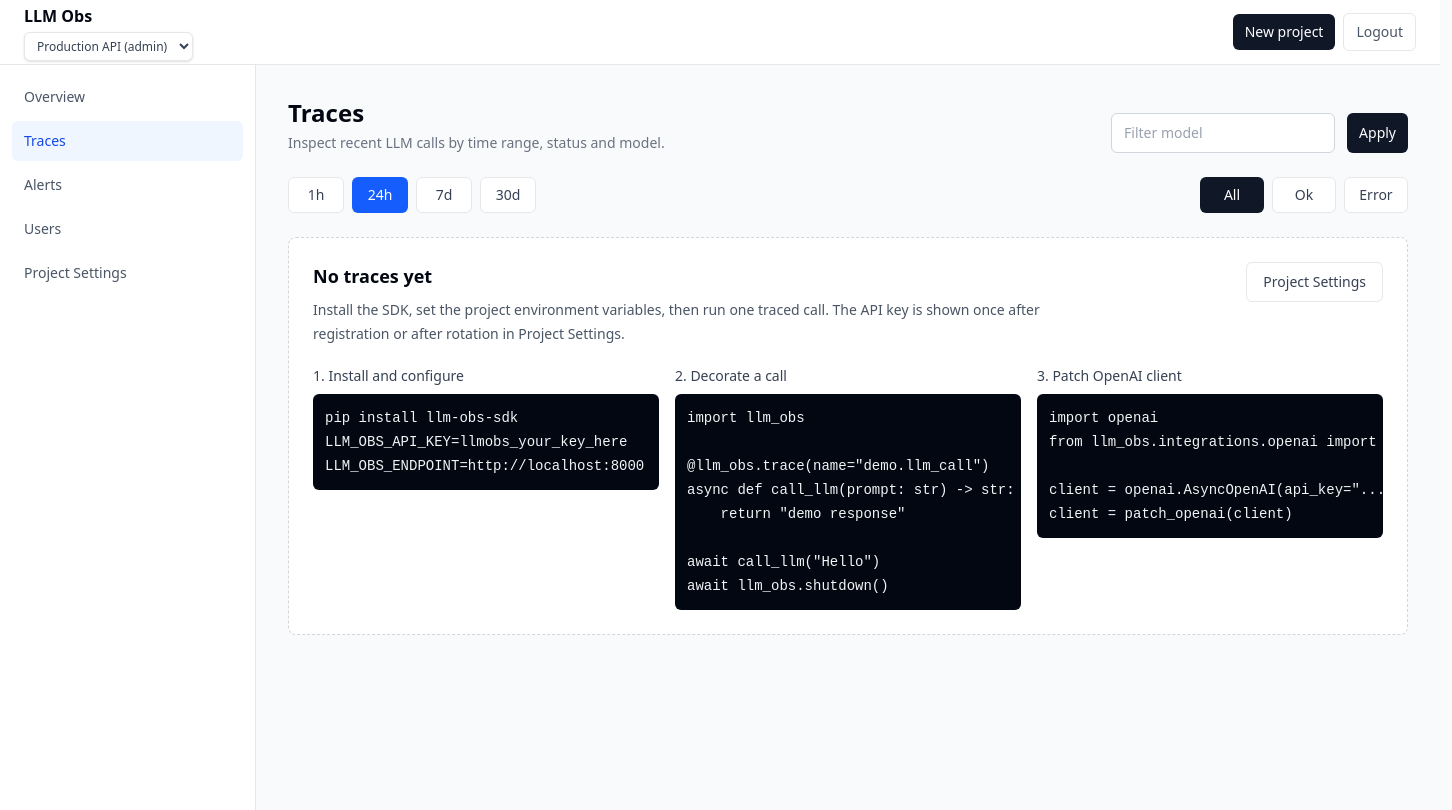
Test: App › routes the LLM Obs title back to the project selection page
Check: the heading "Traces" is shown, box [288,96,364,129]
Click the link "LLM Obs".
click(58, 16)  # box [24,4,92,28]
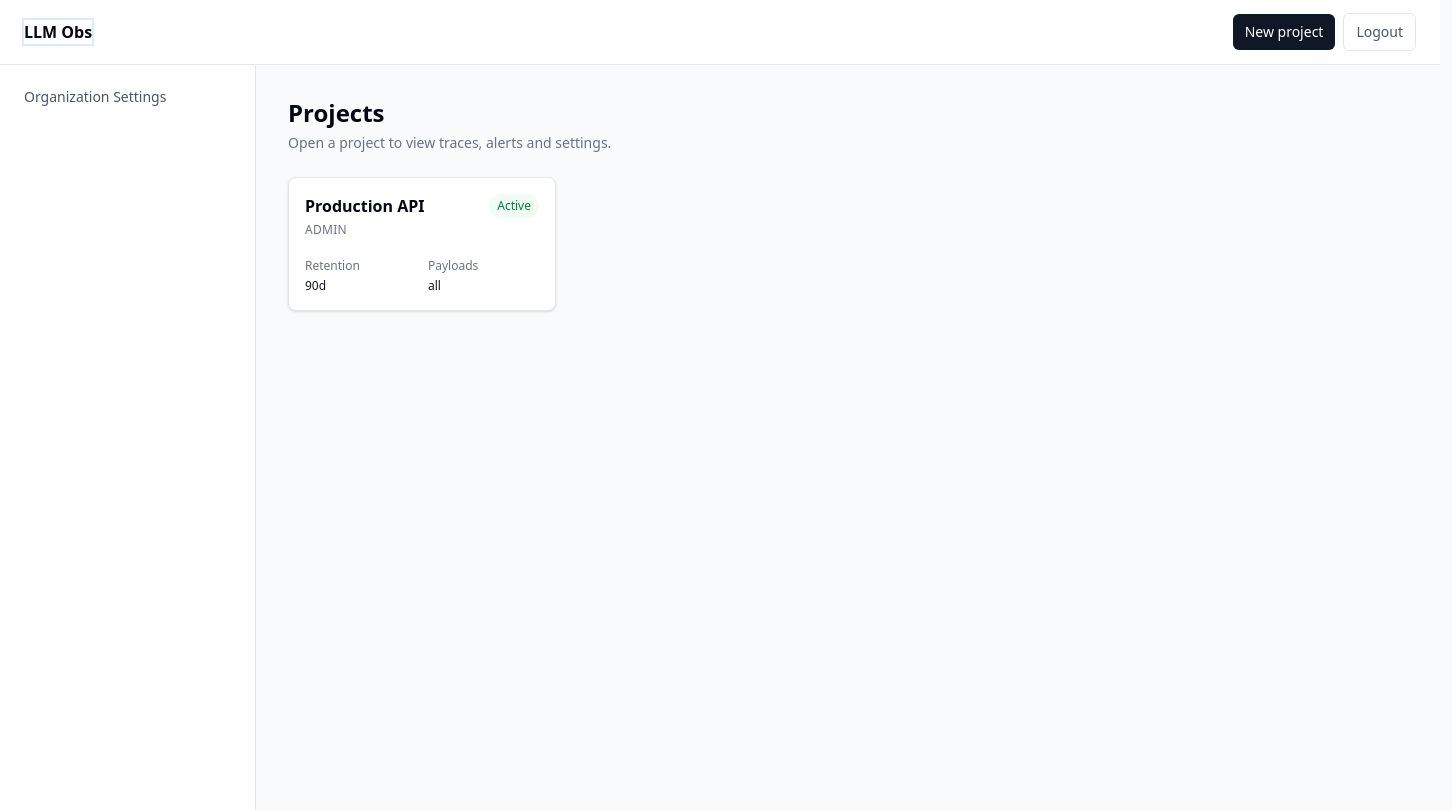
Check: the field labelled "Active project" is not shown
Check: the heading "Projects" is shown, box [288,96,384,129]
